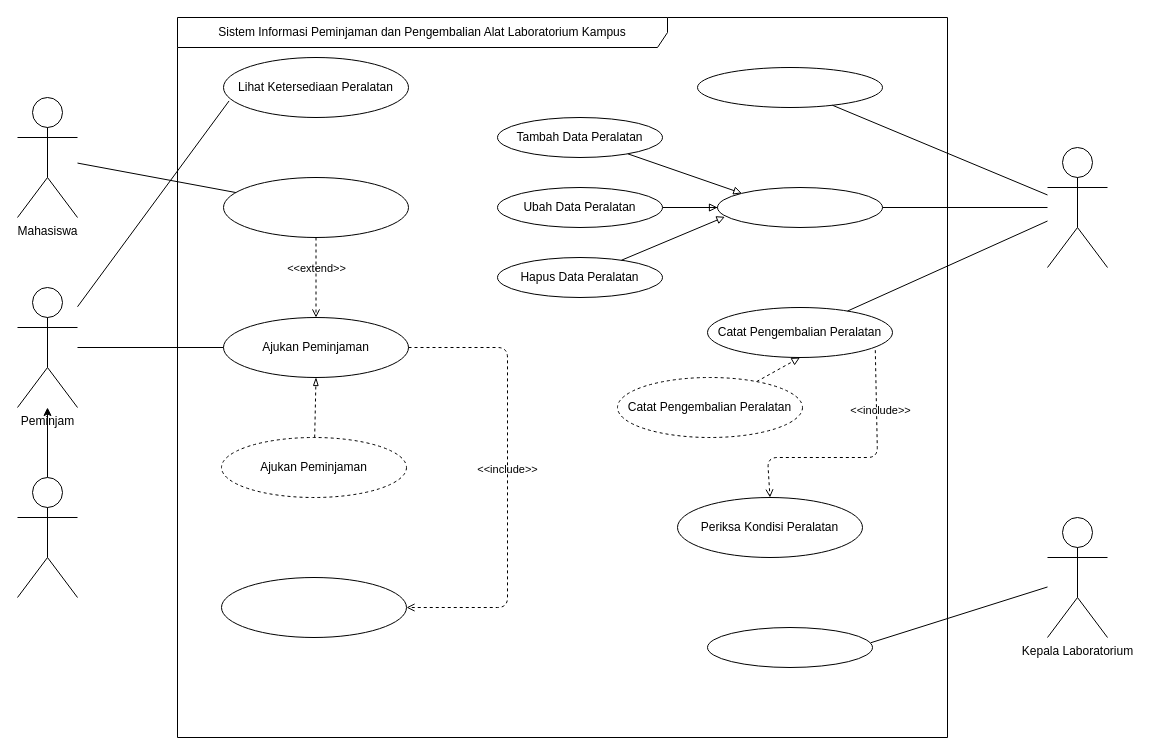
This 1154x755 diagram has some shape labels left out. The centre of each missing label's shape, as x and y in pixels:
"Cetak Bukti Pengajuan" goes at [315,207].
"Dosen" goes at [47,537].
"Kelola Data Peralatan" goes at [799,207].
"Lihat Laporan Peminjaman" goes at [789,647].
"Periksa Ketersediaan" goes at [313,607].
"Petugas Laboratorium" goes at [1077,207].
"Ptoses Keputusan Peminjaman" goes at [789,87].
